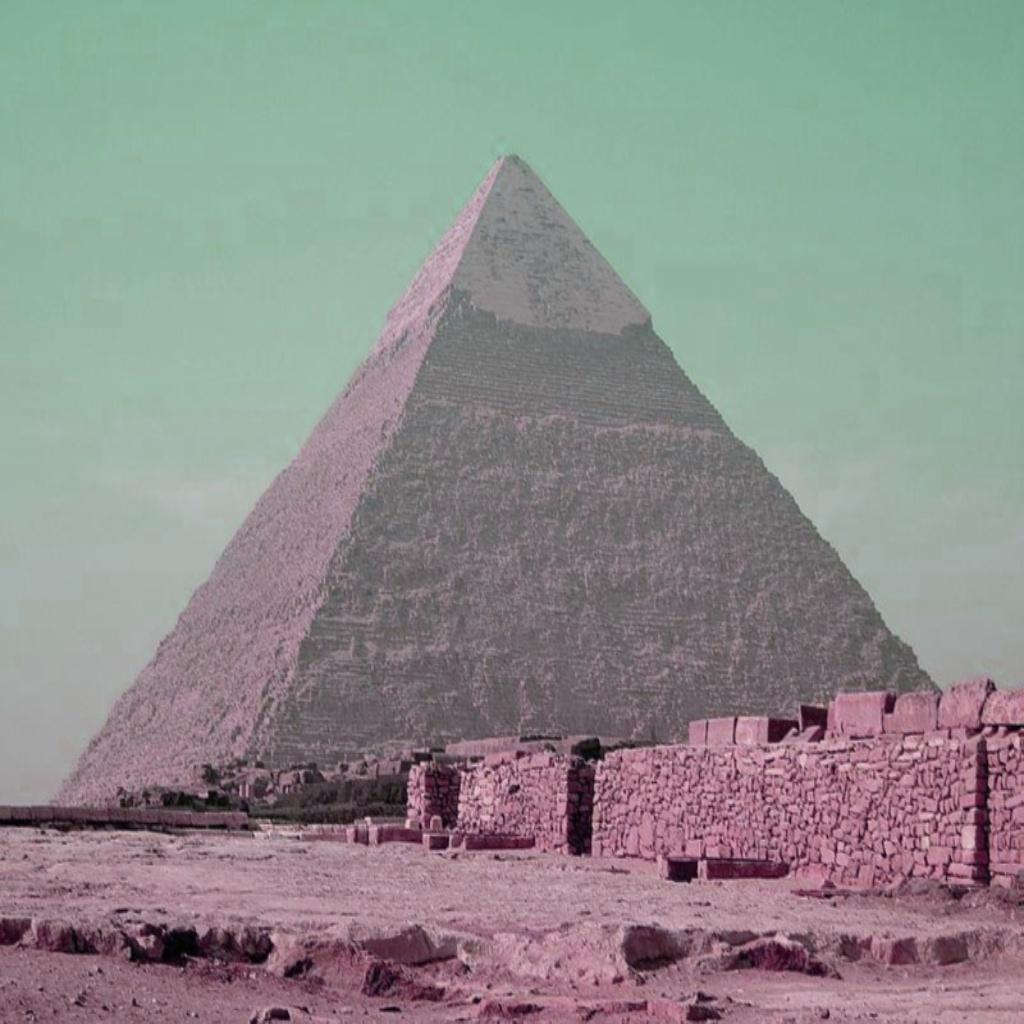Great Pyramids of Giza: (54, 147, 944, 809)
